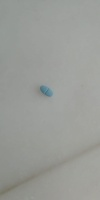Majezik: (39, 84, 53, 98)
